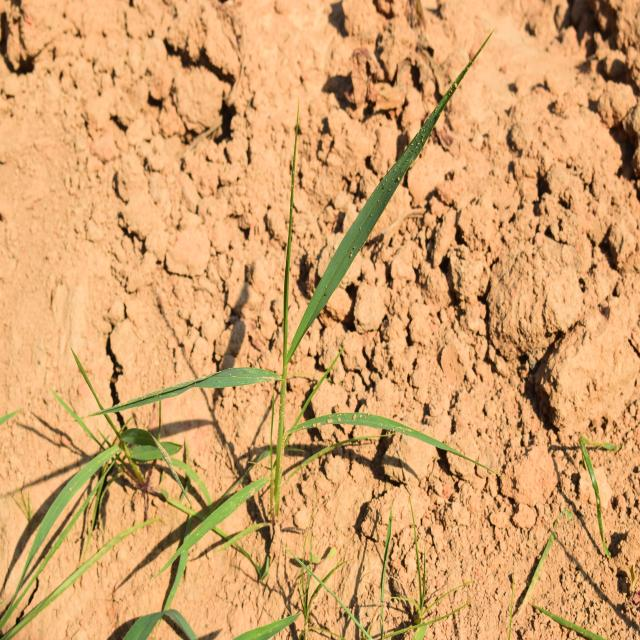green_foxtail: (138, 110, 450, 442)
